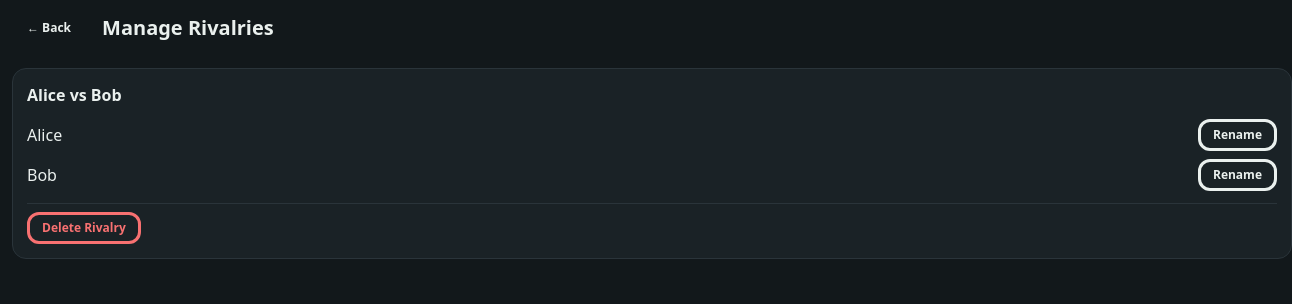
Test case: RivalryAdmin rename and delete › surfaces a duplicate-name conflict from the server
The width and height of the screenshot is (1292, 304).
Click the 1st button "Rename" at point(1238, 135), box x1=1198 y1=119 x2=1277 y2=151
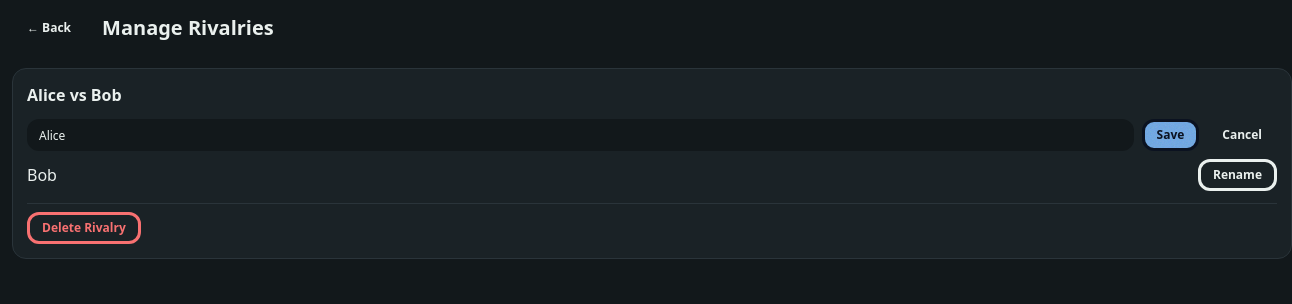
Replace the text in the field showing "Alice" with "Bob" at point(580, 135), box x1=27 y1=119 x2=1134 y2=151
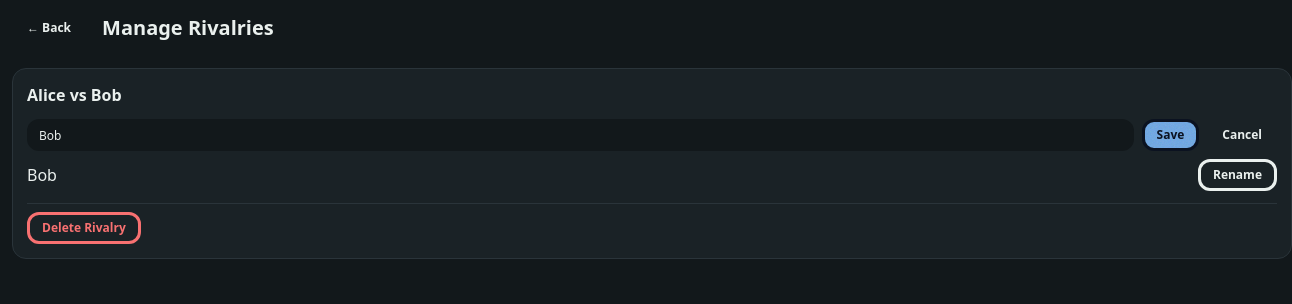
Click the button "Save" at point(1170, 135), box x1=1142 y1=119 x2=1199 y2=151
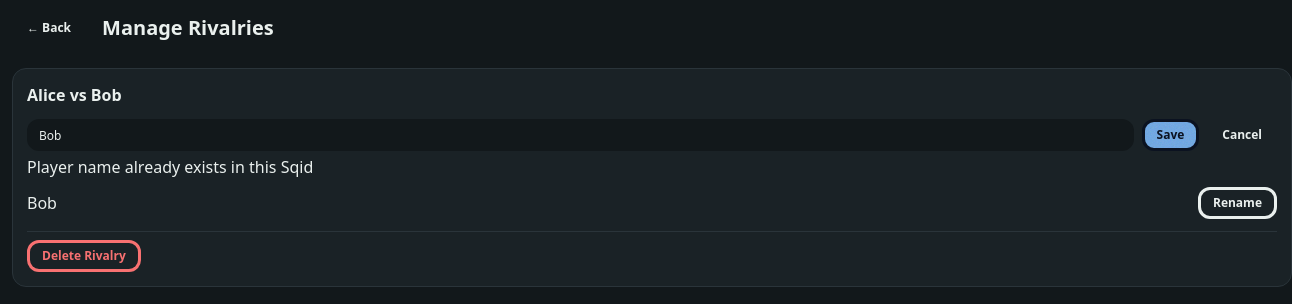
expect the text "Player name already exists in this Sqid" is shown: met, box x1=27 y1=156 x2=313 y2=178
